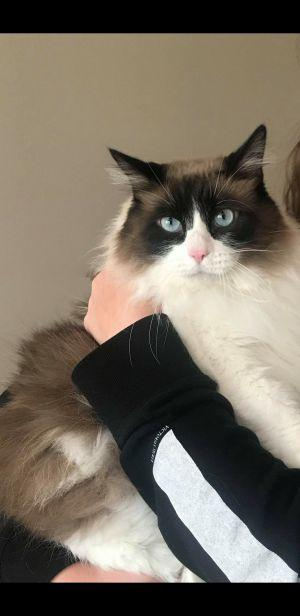ragdoll: (108, 121, 283, 291)
